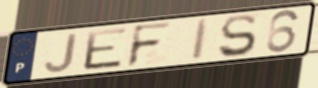6: (266, 8, 302, 54)
E: (82, 25, 130, 72)
F: (124, 20, 175, 69)
I: (190, 17, 213, 63)
J: (42, 31, 79, 74)
S: (216, 13, 258, 60)
